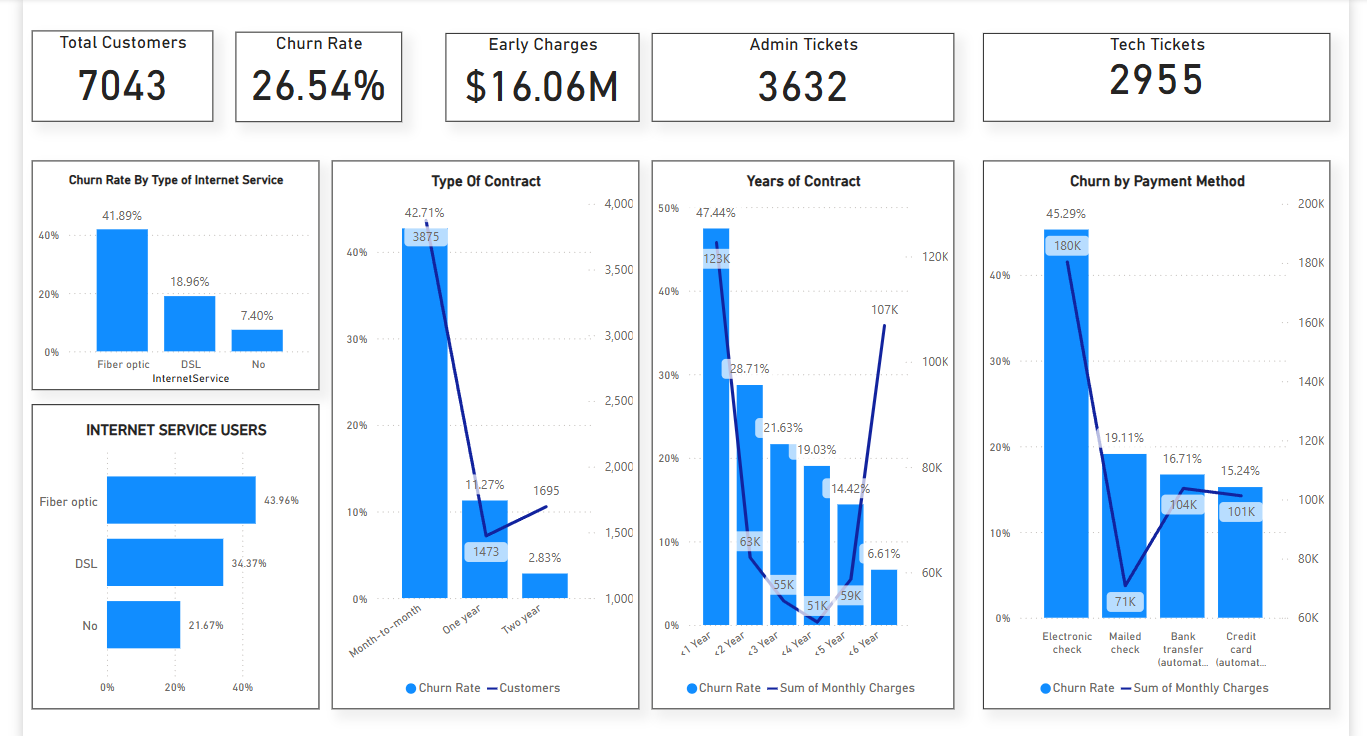

What the dashboard file says about the page in this screenshot:
{"tool":"powerbi","page":{"name":"Page 2","canvas":[1280,720],"ordinal":1},"visuals":[{"type":"card","title":"Total Customers","fields":{"Values":["CountNonNull(01 Churn-Dataset.customerID)"]},"box":[8.4,31.4,174.9,88.1],"z":4000},{"type":"card","title":"Churn Rate","fields":{"Values":["Churn.% Churn Rate"]},"box":[205.1,32.6,160.5,86.9],"z":5000},{"type":"card","title":"Early Charges","fields":{"Values":["Sum(Churn.TotalCharges)"]},"box":[407.8,33.8,187,85.7],"z":6000},{"type":"card","title":"Admin Tickets","fields":{"Values":["Sum(Churn.numAdminTickets)"]},"box":[606.8,33.8,292,85.7],"z":7000},{"type":"card","title":"Tech Tickets","fields":{"Values":["Sum(Churn.numTechTickets)"]},"box":[926.5,33.8,335.4,85.7],"z":8000},{"type":"columnChart","title":"Churn Rate By Type of Internet Service","fields":{"Y":["Churn.% Churn Rate"],"Category":["Churn.InternetService"]},"box":[8.4,156.8,277.5,222],"z":9000},{"type":"lineStackedColumnComboChart","title":"Type Of Contract","fields":{"Y2":["CountNonNull(Churn.customerID)"],"Y":["Churn.% Churn Rate"],"Category":["Churn.Contract"]},"box":[298,156.8,296.8,529.6],"z":12000},{"type":"lineStackedColumnComboChart","title":"Years of Contract","fields":{"Y":["Churn.% Churn Rate"],"Y2":["Sum(Churn.MonthlyCharges)"],"Category":["Churn.Tenure(in years)"]},"box":[606.8,156.8,292,529.6],"z":13000},{"type":"lineStackedColumnComboChart","title":"Churn by Payment Method","fields":{"Y":["Churn.% Churn Rate"],"Y2":["Sum(Churn.MonthlyCharges)"],"Category":["Churn.PaymentMethod"]},"box":[926.5,156.8,335.4,529.6],"z":14000},{"type":"barChart","title":"INTERNET SERVICE USERS","fields":{"Y":["CountNonNull(Churn.InternetService)"],"Category":["Churn.InternetService"]},"box":[8.4,392.1,277.5,294.4],"z":15000}]}

Visuals, with their boxes in screenshot pixels (x1, y1, x2, y2):
"Total Customers" card: bbox=[23, 26, 206, 118]
"Churn Rate" card: bbox=[229, 27, 397, 118]
"Early Charges" card: bbox=[441, 28, 637, 118]
"Admin Tickets" card: bbox=[649, 28, 955, 118]
"Tech Tickets" card: bbox=[984, 28, 1335, 118]
"Churn Rate By Type of Internet Service" columnChart: bbox=[23, 157, 313, 389]
"Type Of Contract" lineStackedColumnComboChart: bbox=[326, 157, 637, 711]
"Years of Contract" lineStackedColumnComboChart: bbox=[649, 157, 955, 711]
"Churn by Payment Method" lineStackedColumnComboChart: bbox=[984, 157, 1335, 711]
"INTERNET SERVICE USERS" barChart: bbox=[23, 403, 313, 711]
